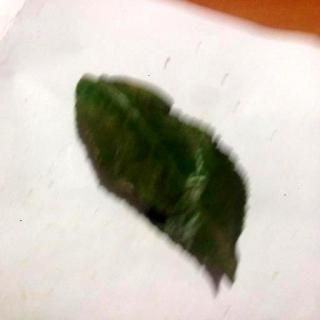Red Leaf Spot: (76, 78, 249, 295)
